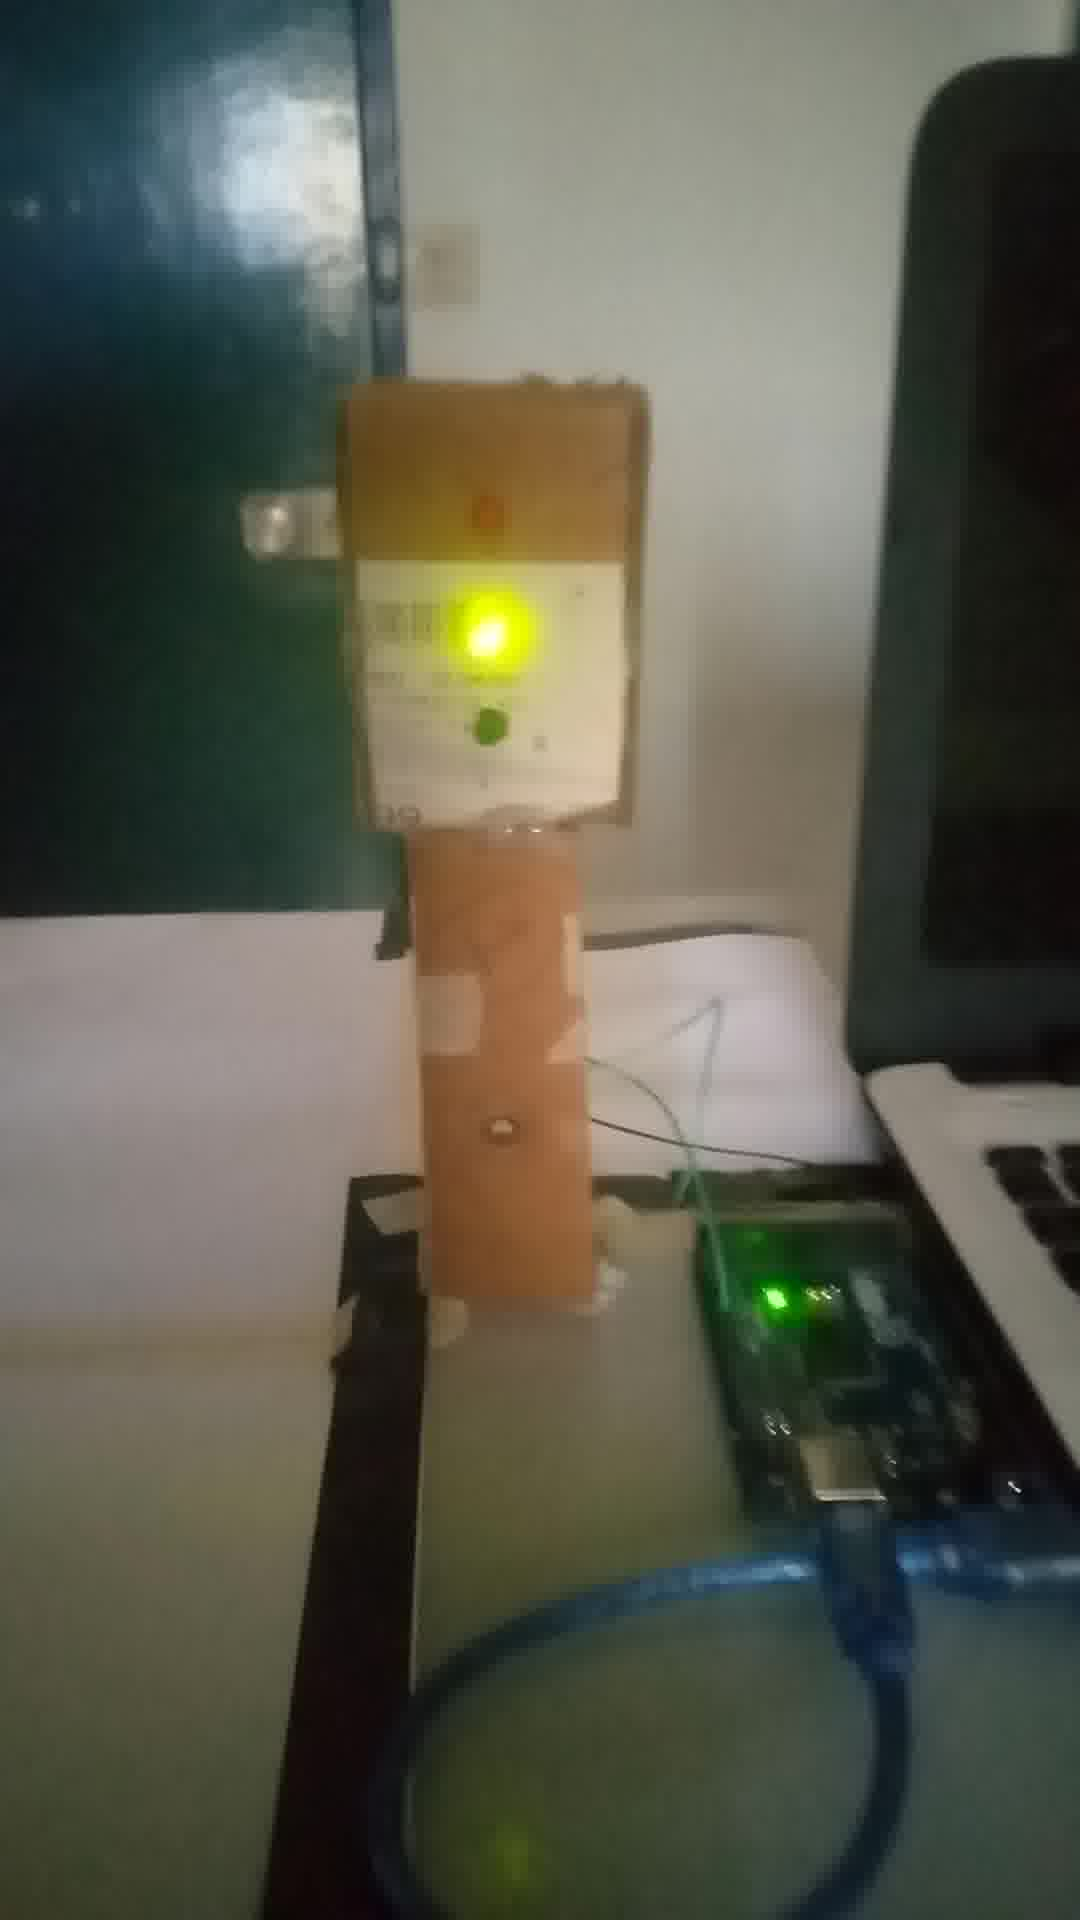yellow: (330, 411, 638, 823)
